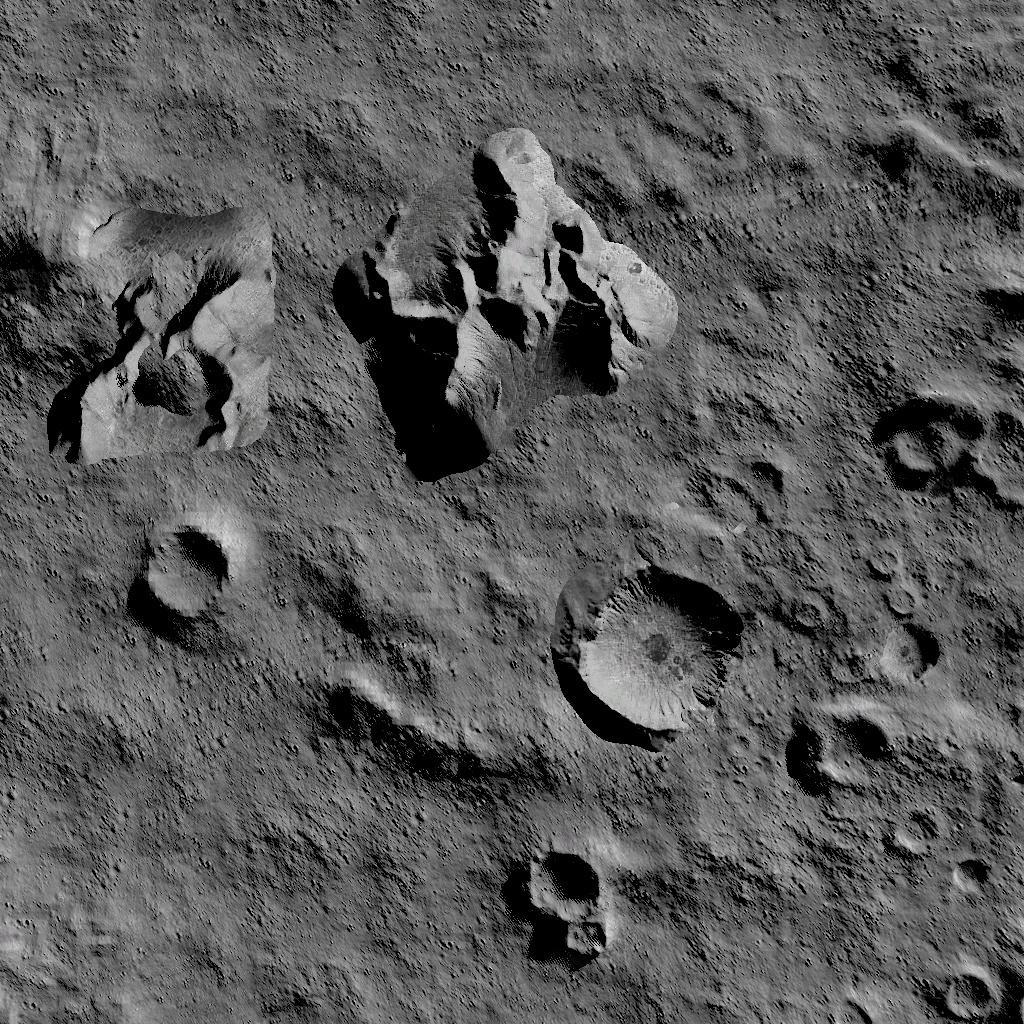Boulders: (336, 132, 678, 478), (0, 105, 273, 460), (313, 670, 553, 798), (873, 112, 1024, 210)
Crater: (568, 565, 738, 738), (516, 845, 618, 968), (878, 392, 982, 496), (798, 698, 900, 800), (138, 522, 236, 626), (928, 958, 1006, 1024)
Plan surface: (0, 0, 1024, 90), (136, 810, 503, 1024), (0, 475, 123, 1024)
